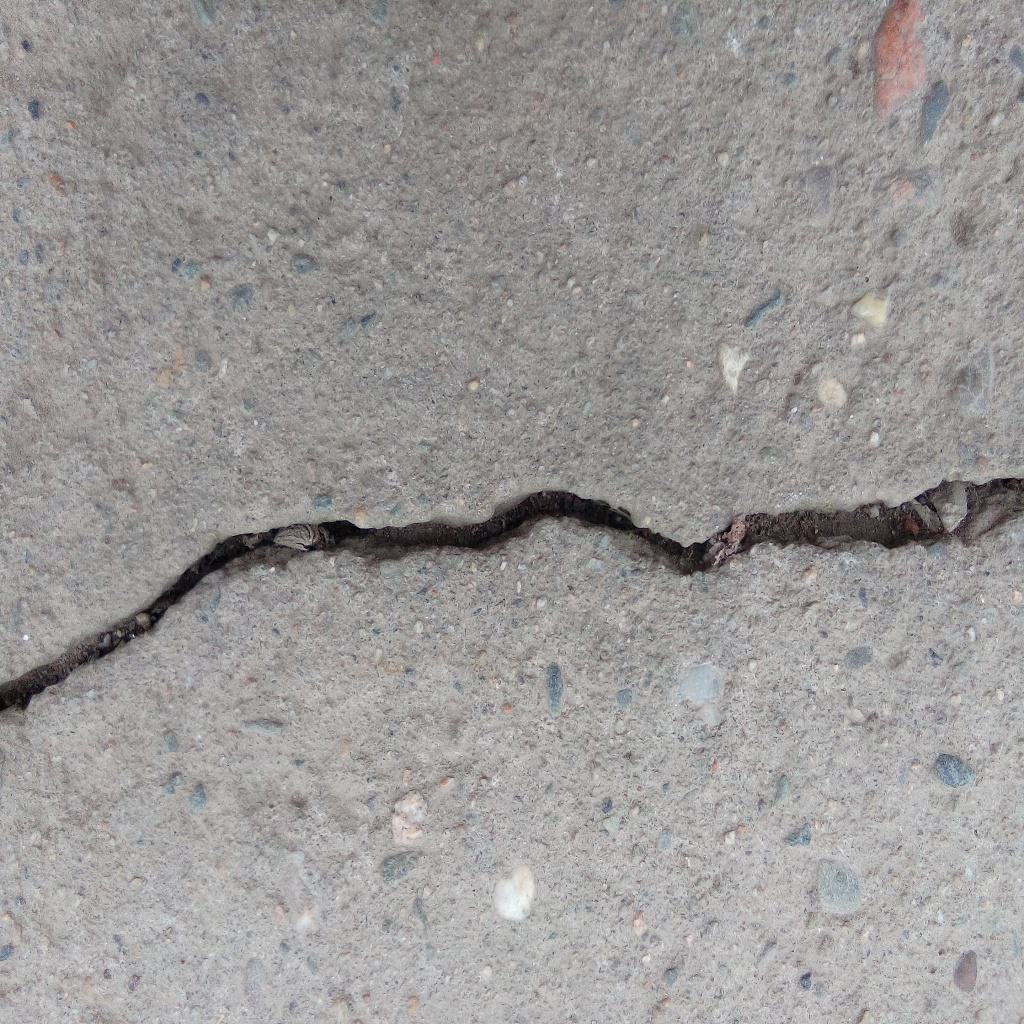Crack: (1, 476, 1024, 717)
